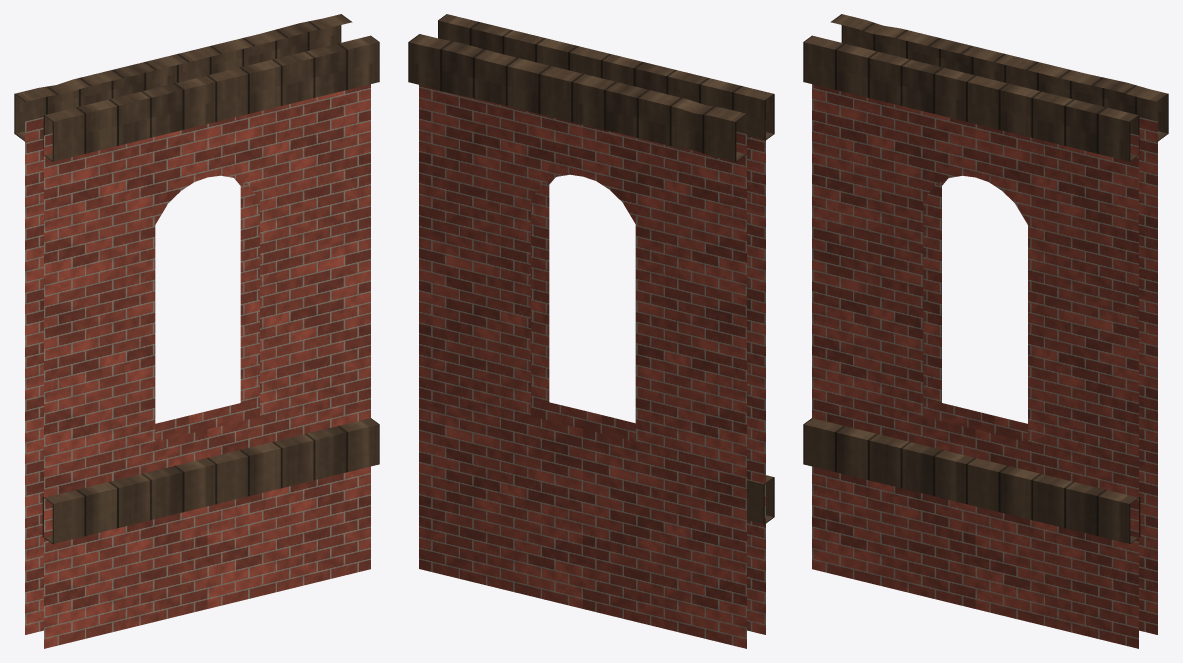
File: Wall_RedBrick_Window_Thin_Round.gltf
3 renders of one model, left to right at view 1: azimuth 30°, elevation 25°; view 2: azimuth 150°, elevation 25°; view 3: azimuth 330°, elevation 25°, orthographic.
Visible parts, largest first — view 1: Wall_RedBrick_Window_Thin_Round; view 2: Wall_RedBrick_Window_Thin_Round; view 3: Wall_RedBrick_Window_Thin_Round.
Boxes of the visible parts, left/top/right/bottom form: Wall_RedBrick_Window_Thin_Round: left=14, top=14, right=379, bottom=648; Wall_RedBrick_Window_Thin_Round: left=408, top=14, right=774, bottom=648; Wall_RedBrick_Window_Thin_Round: left=803, top=14, right=1168, bottom=648.
Bounding box in the file's own units: 2 × 3.12 × 0.406.
2 materials, 2 textured.
